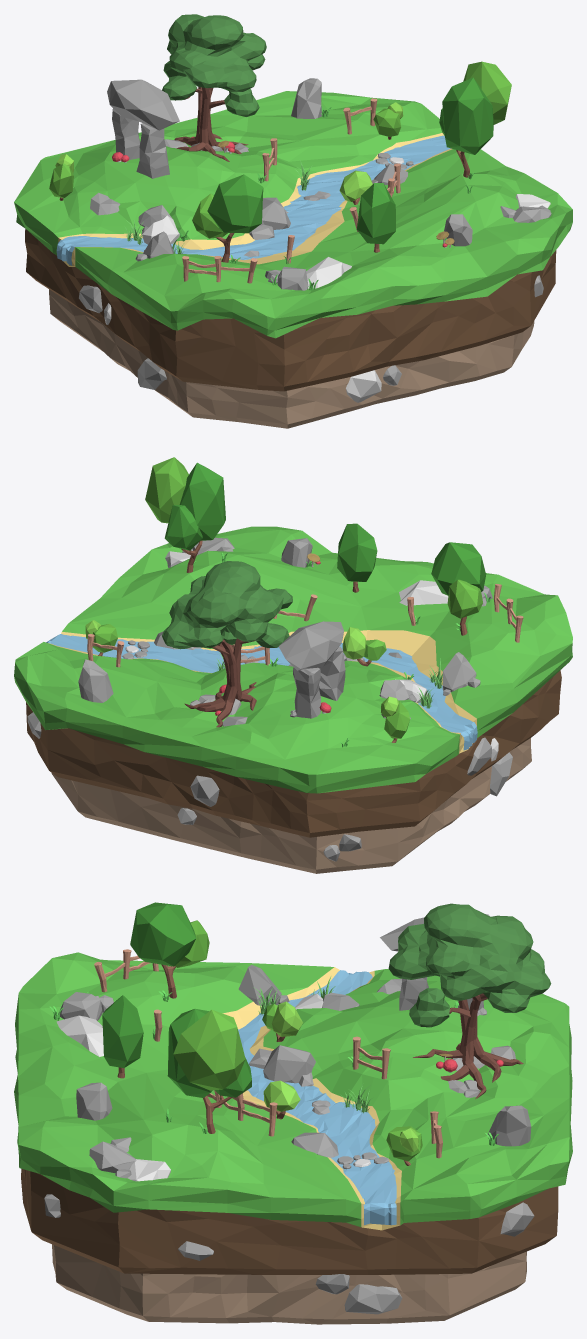
The model's file is river.fbx.
The picture shows the model from 3 angles, top to bottom: view 1: azimuth 30°, elevation 25°; view 2: azimuth 150°, elevation 25°; view 3: azimuth 270°, elevation 25°; orthographic projection. The views are drawn at different scales.
Parts seen in each view (by area): view 1: Plane.001, Cube.002, Cube.003, Mball.016, Plane.003, Cube, Cube.030, Cube.035, Icosphere.019, Icosphere.012, Cube.041, Icosphere.008 (+9 smaller); view 2: Plane.001, Cube.002, Cube.003, Mball.016, Cube.030, Plane.003, Cube, Cube.035, Icosphere.019, Icosphere.012, Cube.031, Cube.041 (+7 smaller); view 3: Plane.001, Cube.002, Cube.003, Mball.016, Plane.003, Cube.030, Cube.035, Icosphere.019, Cube.008, Icosphere.012, Icosphere.000, Cube (+15 smaller).
Part boxes in pixels (<box>): Plane.001: <box>14,91,572,338</box>; Cube.002: <box>25,229,556,391</box>; Cube.003: <box>49,289,534,428</box>; Mball.016: <box>162,14,266,161</box>; Plane.003: <box>56,135,450,265</box>; Cube: <box>107,79,179,178</box>; Cube.030: <box>439,61,511,177</box>; Cube.035: <box>192,174,263,262</box>; Icosphere.019: <box>356,183,395,252</box>; Icosphere.012: <box>291,78,321,118</box>; Cube.041: <box>49,154,73,200</box>; Icosphere.008: <box>306,257,351,288</box>; Plane.001: <box>14,526,572,793</box>; Cube.002: <box>26,670,561,837</box>; Cube.003: <box>51,738,531,873</box>; Mball.016: <box>162,561,292,727</box>; Cube.030: <box>145,457,225,572</box>; Plane.003: <box>46,634,477,750</box>; Cube: <box>278,621,345,718</box>; Cube.035: <box>431,542,486,635</box>; Icosphere.019: <box>337,523,377,592</box>; Icosphere.012: <box>78,659,113,702</box>; Cube.031: <box>342,627,386,666</box>; Cube.041: <box>381,696,409,742</box>; Plane.001: <box>14,952,572,1230</box>; Cube.002: <box>21,1168,558,1274</box>; Cube.003: <box>52,1244,526,1324</box>; Mball.016: <box>388,903,551,1098</box>; Plane.003: <box>238,970,396,1225</box>; Cube.030: <box>167,1008,251,1133</box>; Cube.035: <box>130,902,209,998</box>; Icosphere.019: <box>102,995,143,1078</box>; Cube.008: <box>263,1045,315,1083</box>; Icosphere.012: <box>488,1105,531,1146</box>; Icosphere.000: <box>344,1284,402,1314</box>; Cube: <box>380,914,489,1010</box>.
Bounding box in the file's own units: 1638 × 997 × 1624.
